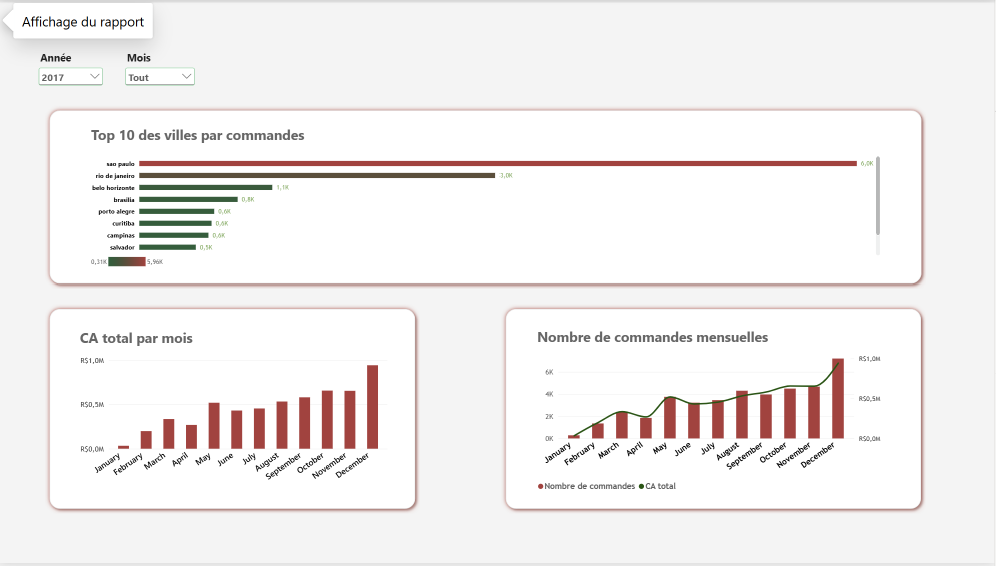

This screenshot's page, from the dashboard's own definition file:
{"tool":"powerbi","page":{"name":"Page 1","canvas":[1920,1080],"ordinal":1},"visuals":[{"type":"group","id":"g1","title":"Groupe 3","box":[88,200,1700,352],"z":0,"group":"g2"},{"type":"shape","box":[88,200,1700,352],"z":0,"group":"g1"},{"type":"group","id":"g2","title":"Groupe 1","box":[88,200,1700,352],"z":0},{"type":"shape","box":[88,582,724,404],"z":0,"group":"g3"},{"type":"slicer","fields":{"Values":["dim_date.year"]},"box":[70,92,133.9,80.4],"z":1000},{"type":"barChart","title":"Top 10 des villes par commandes","fields":{"Category":["dim_customers.customer_city"],"Y":["fact_order_items.Nombre de commandes"]},"box":[161,223.6,1554,309.3],"z":1000,"group":"g2"},{"type":"lineClusteredColumnComboChart","title":"CA total par mois","fields":{"Category":["dim_date.month_name"],"Y":["fact_order_items.CA total"]},"box":[138.4,614.2,625.9,339.6],"z":1000,"group":"g3"},{"type":"slicer","fields":{"Values":["dim_date.month_name"]},"box":[238,92,144,80],"z":2000},{"type":"group","id":"g3","title":"Groupe 3","box":[88,582,724,404],"z":3000},{"type":"shape","box":[968,582,820,404],"z":4000,"group":"g5"},{"type":"group","id":"g4","title":"Groupe 5","box":[968,582,820,404],"z":4000},{"type":"group","id":"g5","title":"Groupe 2","box":[968,582,820,404],"z":6000,"group":"g4"},{"type":"lineClusteredColumnComboChart","title":"Nombre de commandes mensuelles","fields":{"Category":["dim_date.month_name"],"Y":["fact_order_items.Nombre de commandes"],"Y2":["fact_order_items.CA total"]},"box":[1021.8,612.7,699.6,352.9],"z":7000,"group":"g4"}]}

Visuals, with their boxes on the page's 1920x1080 design canvas (x1, y1, x2, y2). These are canvas units, not pixel positions in the 996x566 screenshot, which may show the page scaled, cropped or inside an application window:
"Groupe 3" group: bbox(88, 200, 1788, 552)
shape: bbox(88, 200, 1788, 552)
"Groupe 1" group: bbox(88, 200, 1788, 552)
shape: bbox(88, 582, 812, 986)
slicer - dim_date.year: bbox(70, 92, 204, 172)
"Top 10 des villes par commandes" barChart: bbox(161, 224, 1715, 533)
"CA total par mois" lineClusteredColumnComboChart: bbox(138, 614, 764, 954)
slicer - dim_date.month_name: bbox(238, 92, 382, 172)
"Groupe 3" group: bbox(88, 582, 812, 986)
shape: bbox(968, 582, 1788, 986)
"Groupe 5" group: bbox(968, 582, 1788, 986)
"Groupe 2" group: bbox(968, 582, 1788, 986)
"Nombre de commandes mensuelles" lineClusteredColumnComboChart: bbox(1022, 613, 1721, 966)
